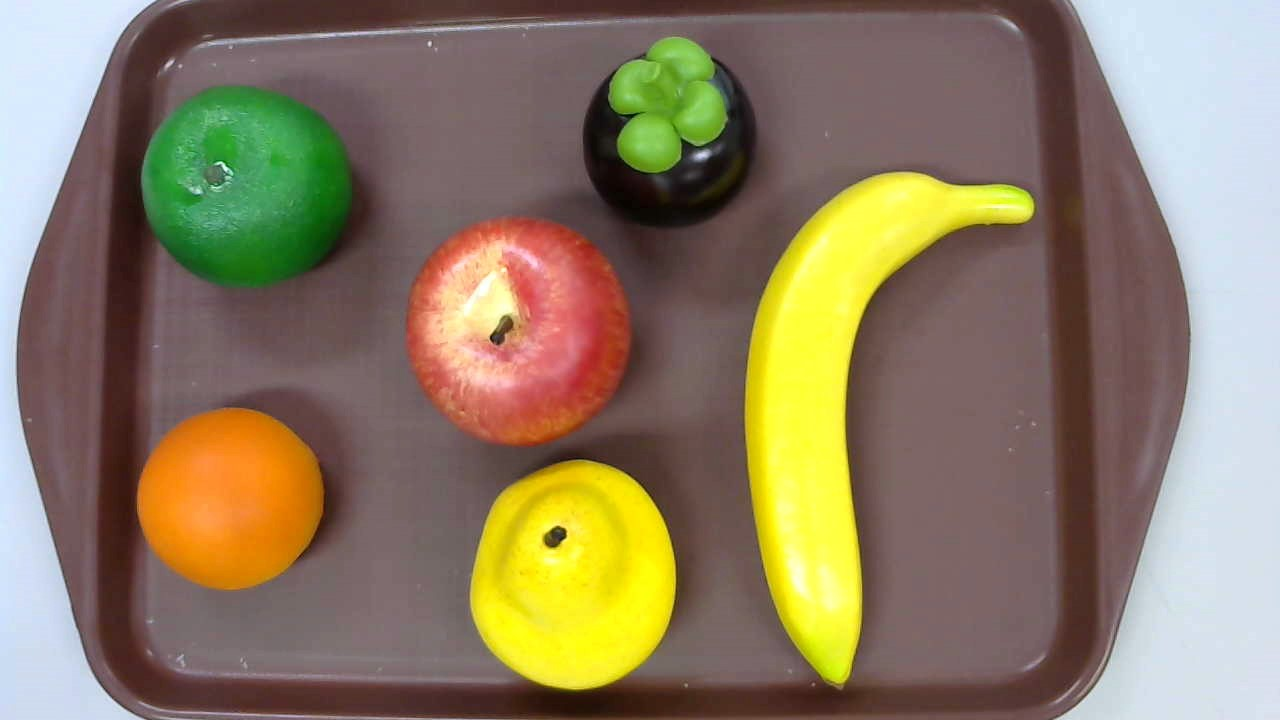banana: (742, 171, 1035, 694)
bun: (135, 406, 323, 592)
green orange: (141, 86, 351, 289)
mangosteen: (583, 36, 756, 227)
red apple: (405, 216, 634, 450)
yellow pear: (469, 460, 677, 691)
